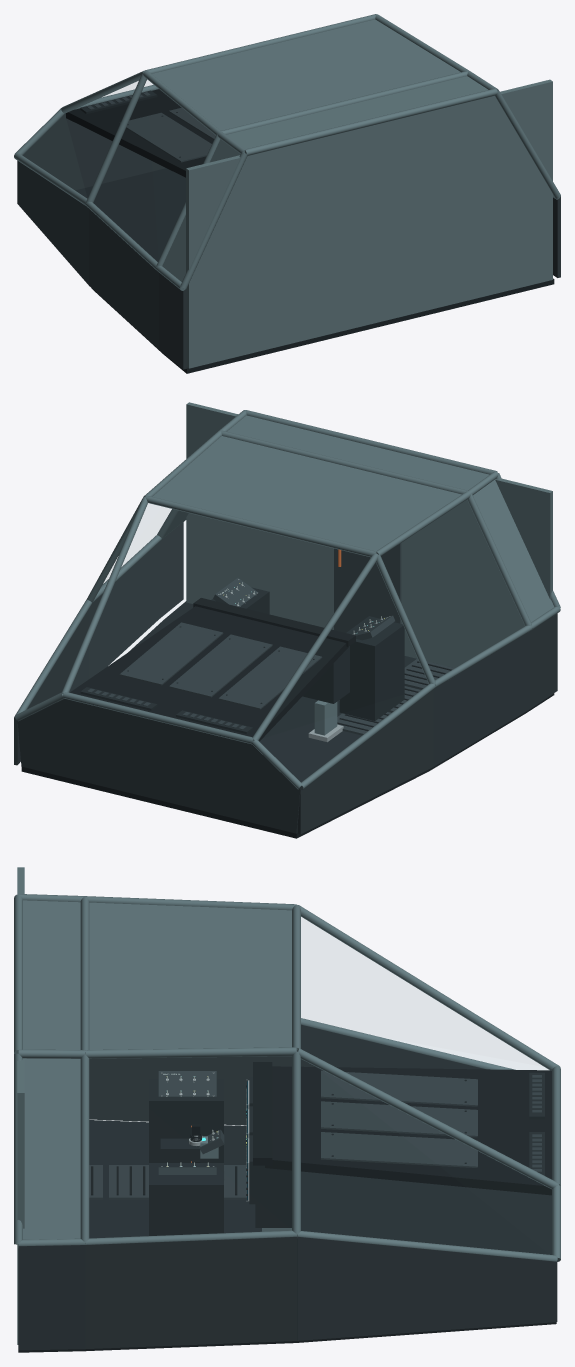
File: hero-cockpit-mid.glb
The picture shows the model from 3 angles, top to bottom: view 1: azimuth 30°, elevation 25°; view 2: azimuth 150°, elevation 25°; view 3: azimuth 270°, elevation 25°; orthographic projection. The views are drawn at different scales.
Parts seen in each view (by area): view 1: hero-cockpit / mid; view 2: hero-cockpit / mid; view 3: hero-cockpit / mid.
Boxes of the visible parts, x1=… form: hero-cockpit / mid: x1=14, y1=14, x2=560, y2=373; hero-cockpit / mid: x1=14, y1=402, x2=560, y2=838; hero-cockpit / mid: x1=14, y1=867, x2=560, y2=1352.
Bounding box in the file's own units: 4.62 × 2.43 × 4.52.
